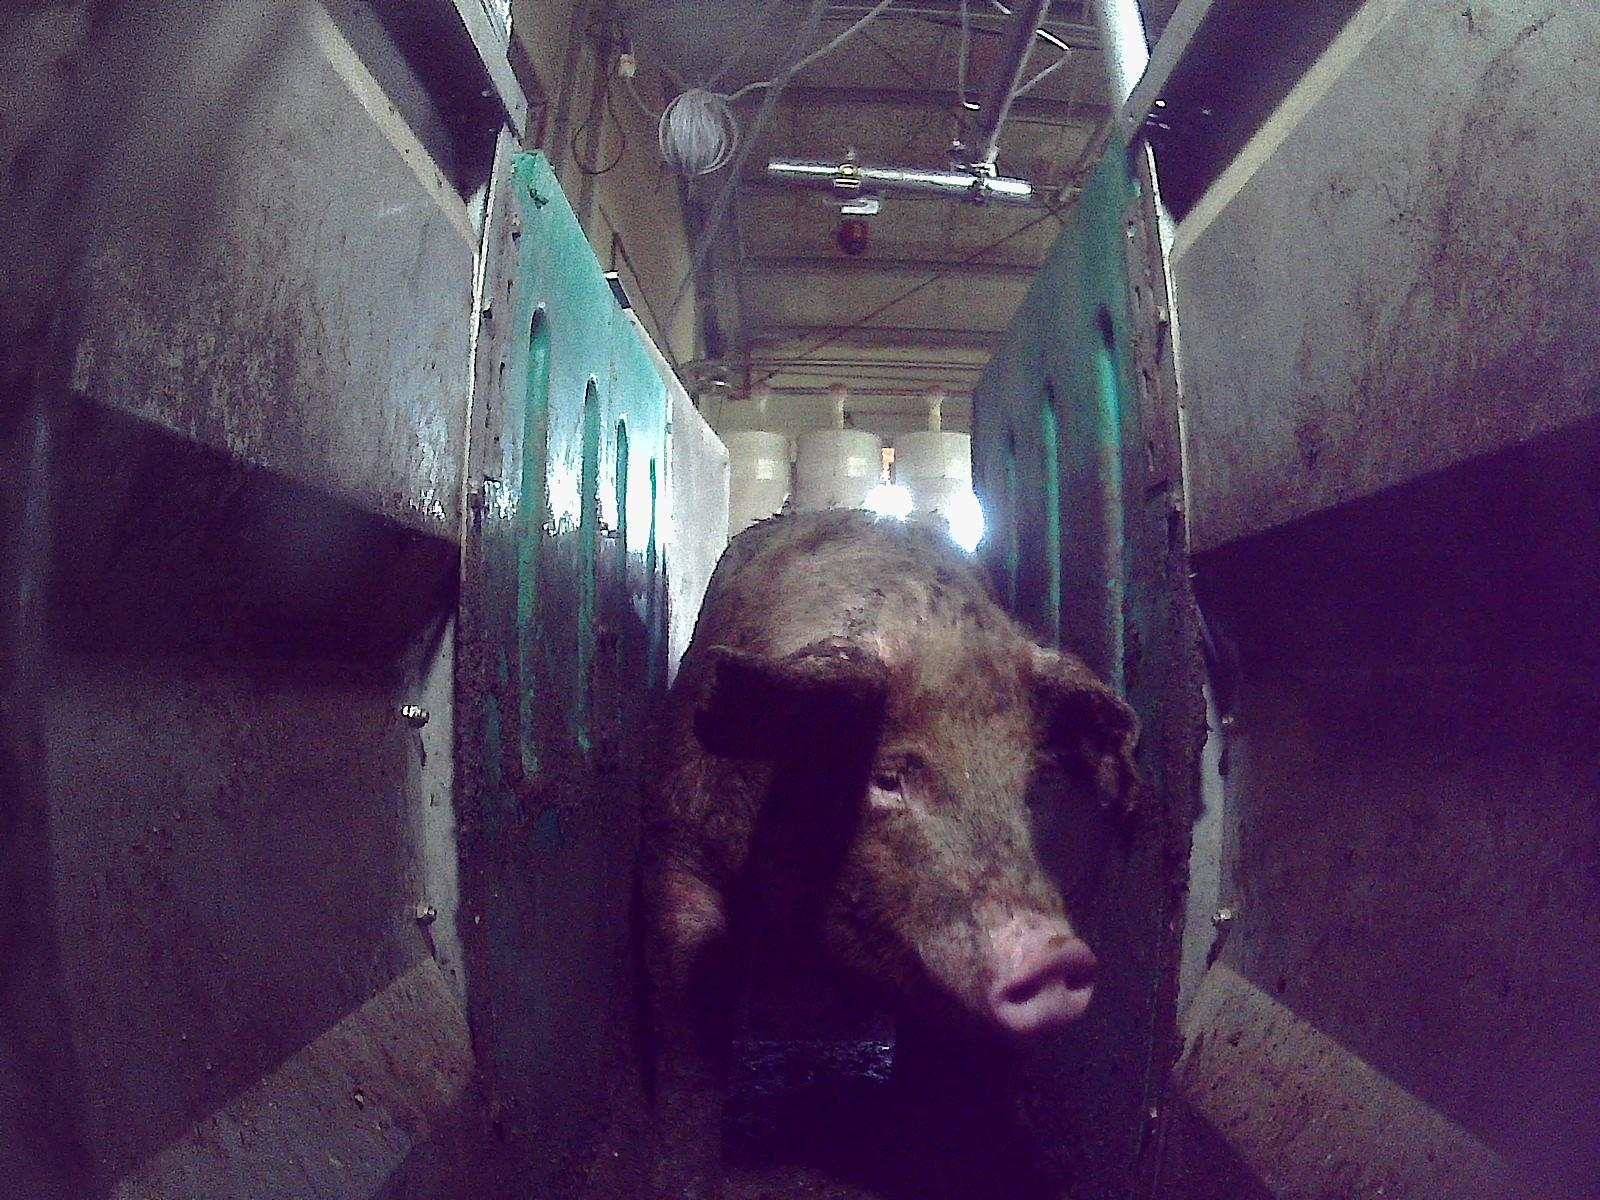Face: (788, 633, 1095, 1033)
